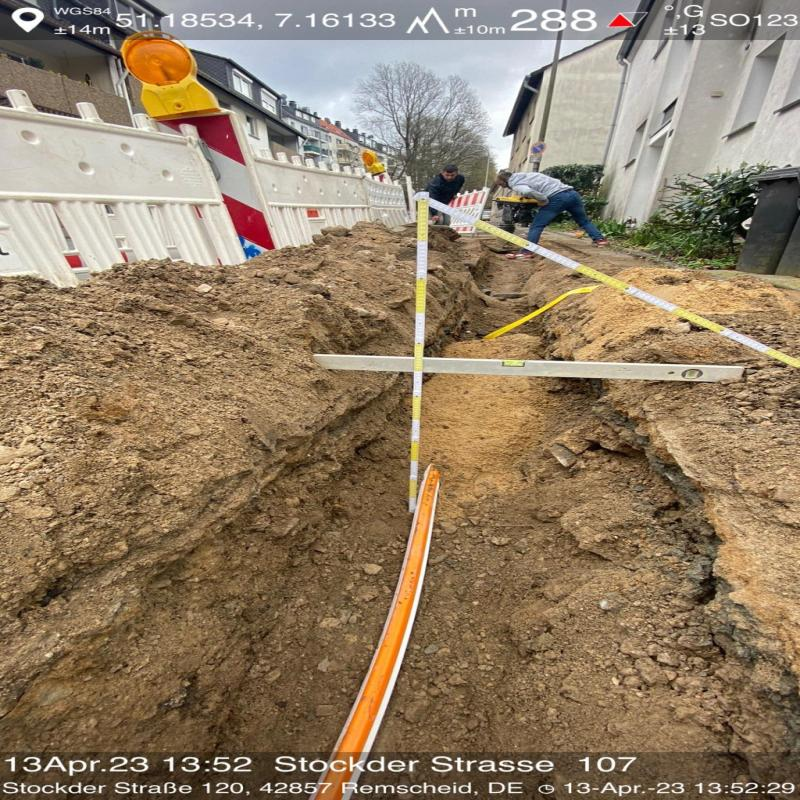Orang-Speednetrohrchen: (338, 467, 440, 751)
